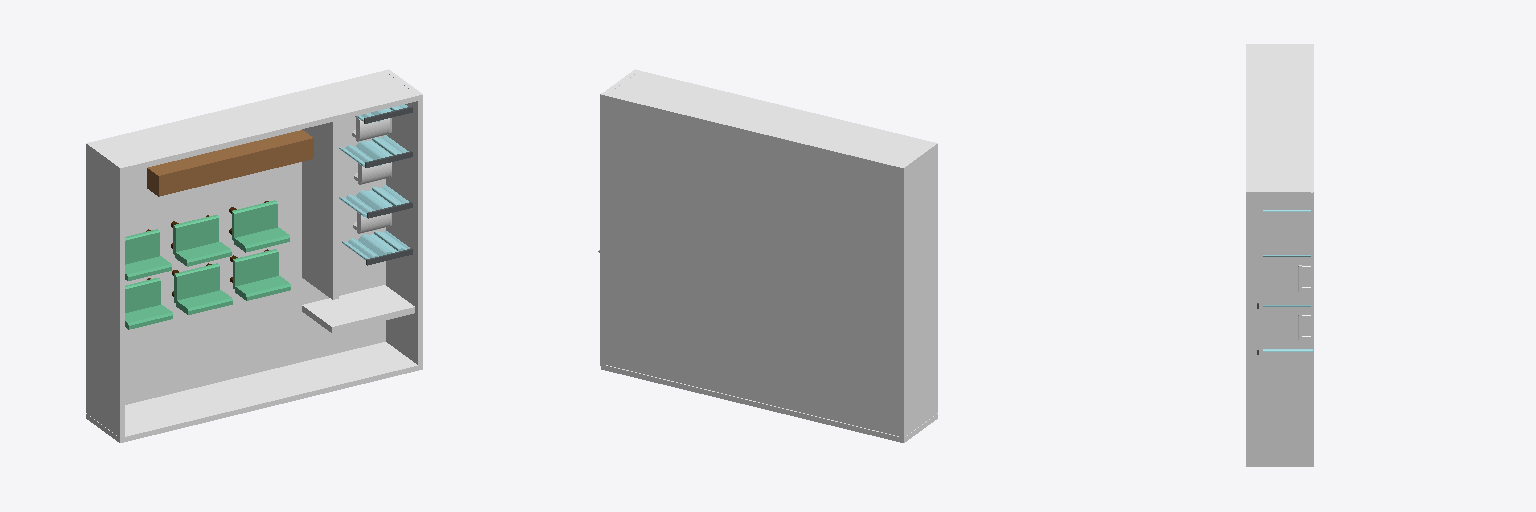
The model's file is tinker.obj.
3 views of the same model, side by side, from view 1: azimuth 30°, elevation 25°; view 2: azimuth 150°, elevation 25°; view 3: azimuth 270°, elevation 25° (orthographic).
Parts seen in each view (by area): view 1: obj_0; view 2: obj_0; view 3: obj_0.
Part boxes in pixels (x1,y1,x2,y2): obj_0: (86,69,422,442); obj_0: (598,69,937,442); obj_0: (1246,44,1313,466).
Size of the model in its own units: 309 by 265 by 60.